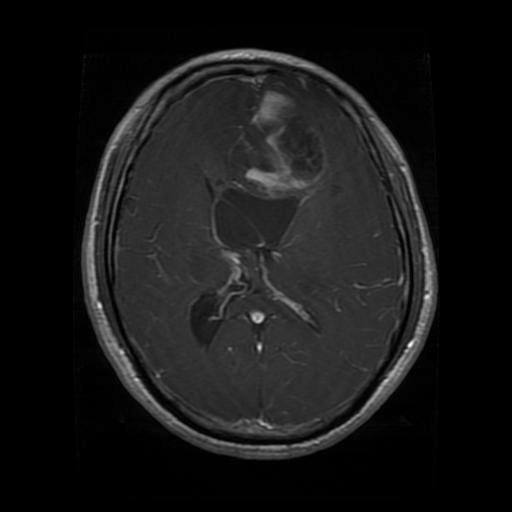Tumour-Glioma: (245, 100, 319, 206)
